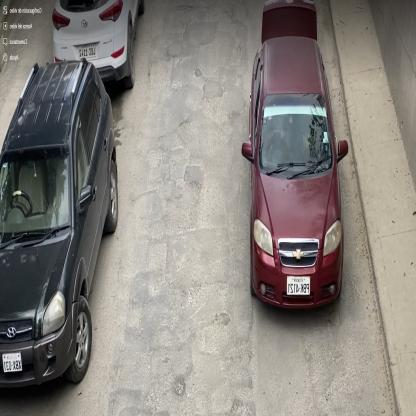Placa: (286, 277, 310, 297), (1, 352, 21, 376)
